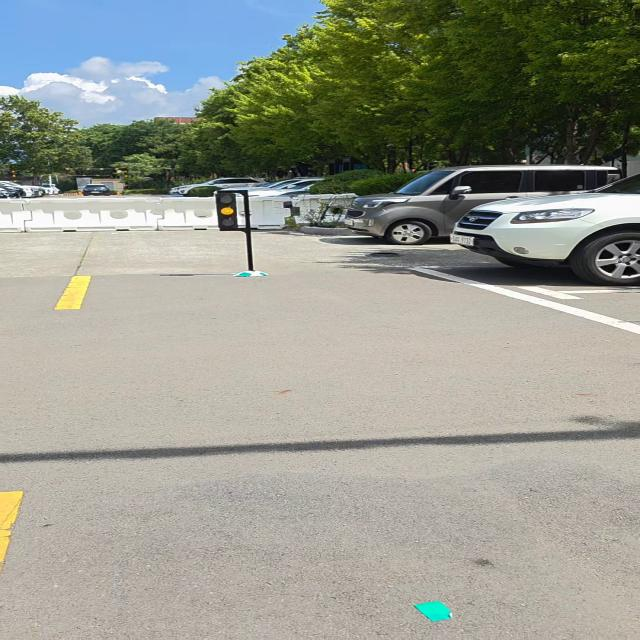yellow: (214, 193, 240, 230)
